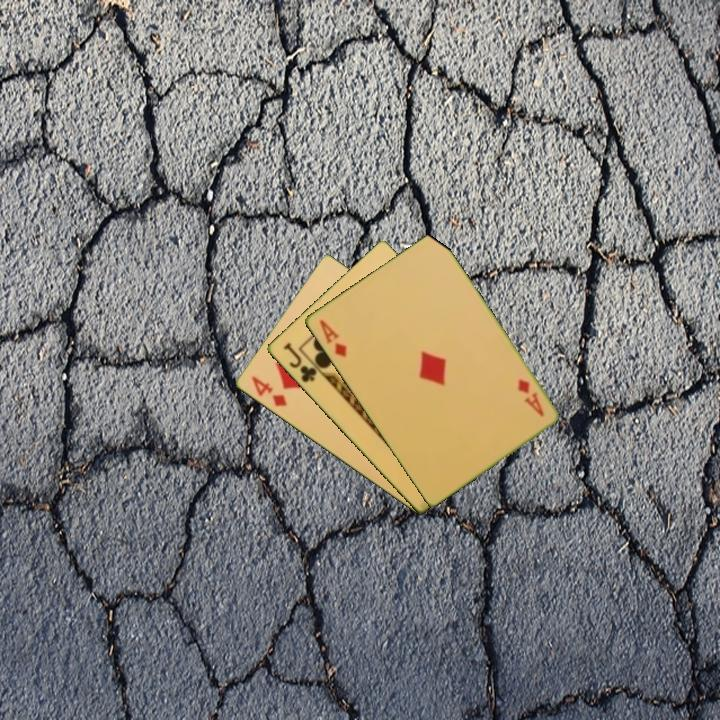4d: (248, 372, 289, 410)
Ad: (315, 316, 349, 360), (513, 375, 546, 419)
Jc: (280, 339, 319, 386)
